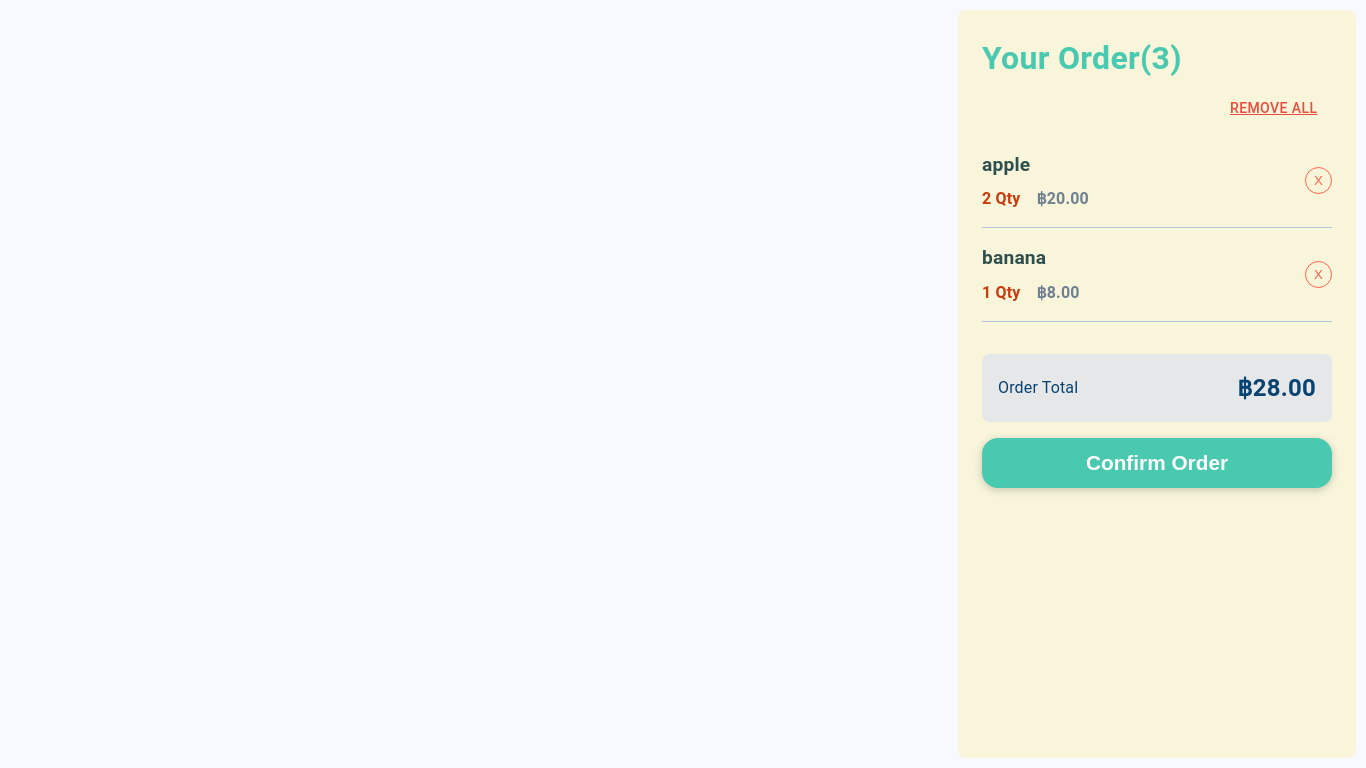
Test case: Cart Component - ClearCart › TC3: Should display confirmation dialog when clicking "Remove all"
Click the button "Remove all". click: (1274, 108)
box: [1222,90,1325,126]
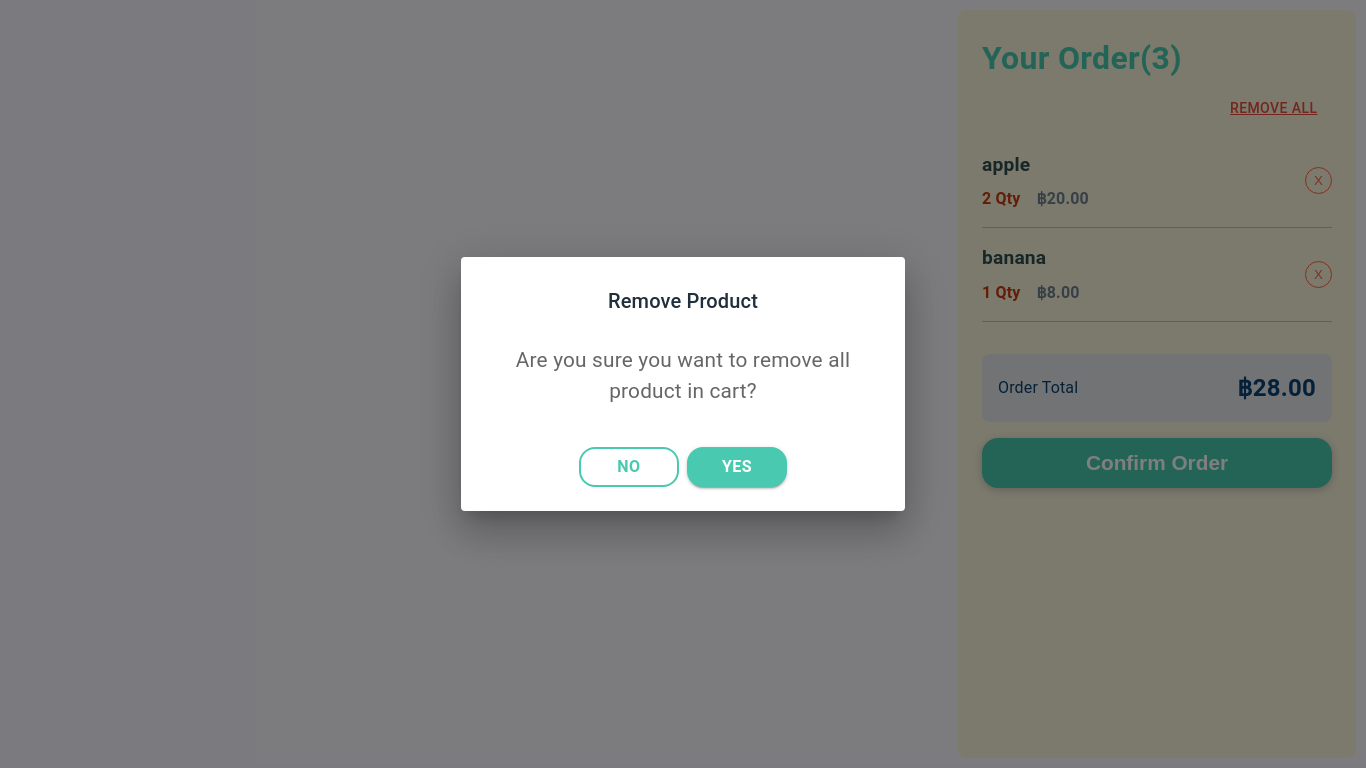
Now the heading "Remove Product" is shown, box [608,289,758,313]
Now the text "Are you sure you want to remove all product in cart?" is shown, box [489,337,877,415]
Now the button "No" is shown, box [579,447,679,487]
